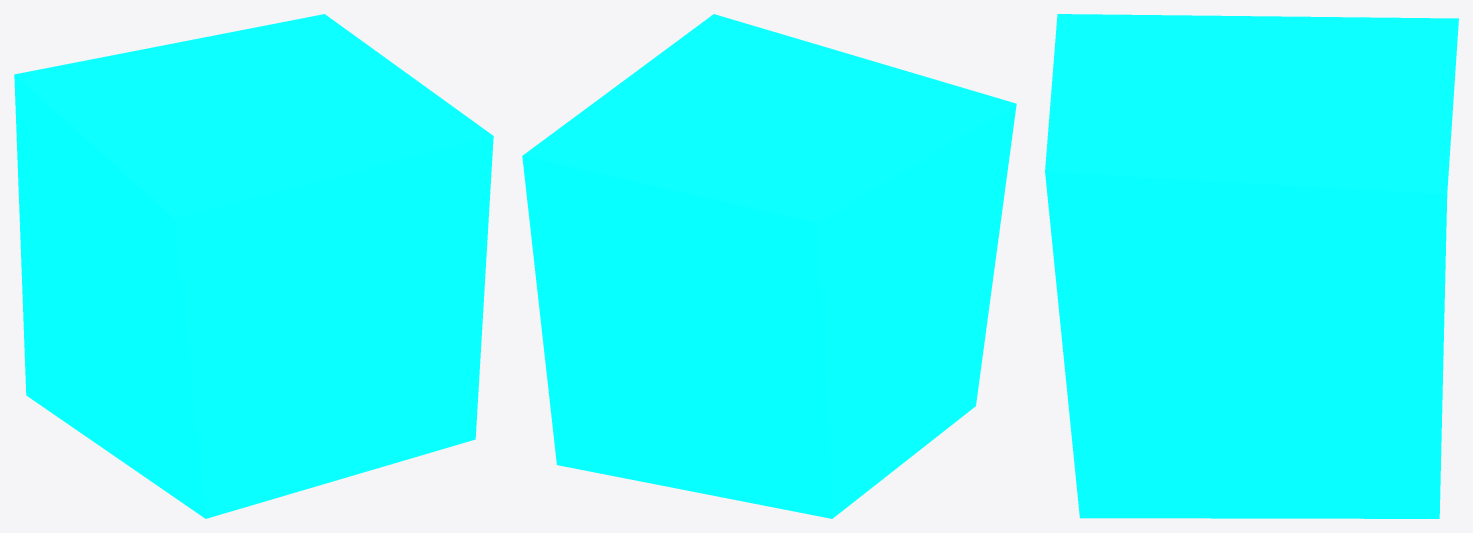
Rendered from Player_4.fbx.
3 views of the same model, side by side, from view 1: azimuth 30°, elevation 25°; view 2: azimuth 150°, elevation 25°; view 3: azimuth 270°, elevation 25° (orthographic). The views are drawn at different scales.
Visible parts, largest first — view 1: Cube; view 2: Cube; view 3: Cube.
Boxes of the visible parts, x1,y1,x2,y2 form: Cube: [14, 14, 493, 518]; Cube: [522, 14, 1016, 518]; Cube: [1045, 14, 1458, 518].
Size of the model in its own units: 102 by 96.98 by 102.
